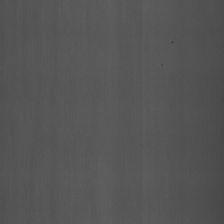inclusion: (166, 32, 176, 44), (156, 55, 165, 68)
